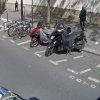Motorcycle: (28, 19, 96, 61)
